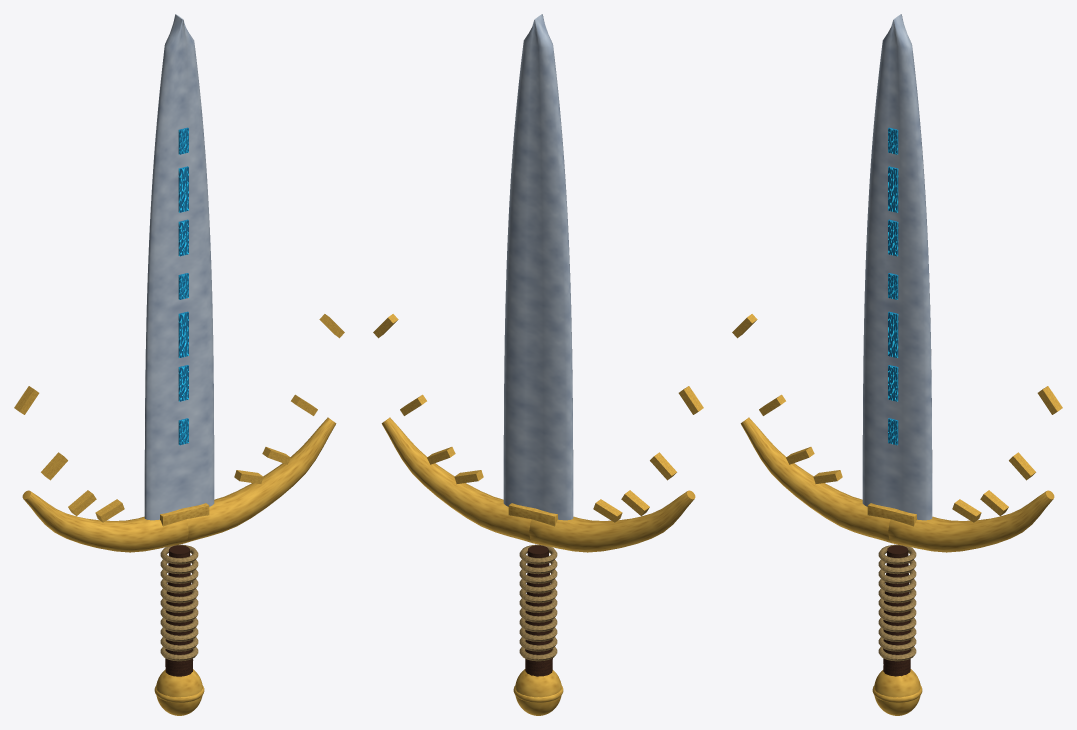
File: wpn_aetherblade_longsword.glb
The picture shows the model from 3 angles, left to right: view 1: azimuth 30°, elevation 25°; view 2: azimuth 150°, elevation 25°; view 3: azimuth 330°, elevation 25°; orthographic projection.
Visible parts, largest first — view 1: blade, crossguard, grip_wrap, rune_inlay, guard_wings, pommel, grip; view 2: blade, crossguard, grip_wrap, guard_wings, pommel, grip; view 3: blade, crossguard, grip_wrap, rune_inlay, guard_wings, pommel, grip.
Boxes of the visible parts, left/top/right/bottom form: blade: left=144, top=14, right=214, bottom=520; crossguard: left=22, top=417, right=336, bottom=552; grip_wrap: left=160, top=544, right=198, bottom=661; rune_inlay: left=178, top=127, right=188, bottom=445; guard_wings: left=14, top=314, right=344, bottom=522; pommel: left=154, top=669, right=204, bottom=715; grip: left=165, top=545, right=193, bottom=676; blade: left=503, top=14, right=573, bottom=520; crossguard: left=381, top=417, right=695, bottom=552; grip_wrap: left=519, top=544, right=557, bottom=661; guard_wings: left=373, top=314, right=703, bottom=522; pommel: left=513, top=669, right=563, bottom=715; grip: left=525, top=545, right=552, bottom=676; blade: left=862, top=14, right=932, bottom=520; crossguard: left=740, top=417, right=1054, bottom=552; grip_wrap: left=878, top=544, right=916, bottom=661; rune_inlay: left=888, top=127, right=898, bottom=445; guard_wings: left=732, top=314, right=1062, bottom=522; pommel: left=872, top=669, right=922, bottom=715; grip: left=883, top=545, right=910, bottom=676.
Size of the model in its own units: 0.7036 by 1.44 by 0.0934.
5 materials, 5 textured.
